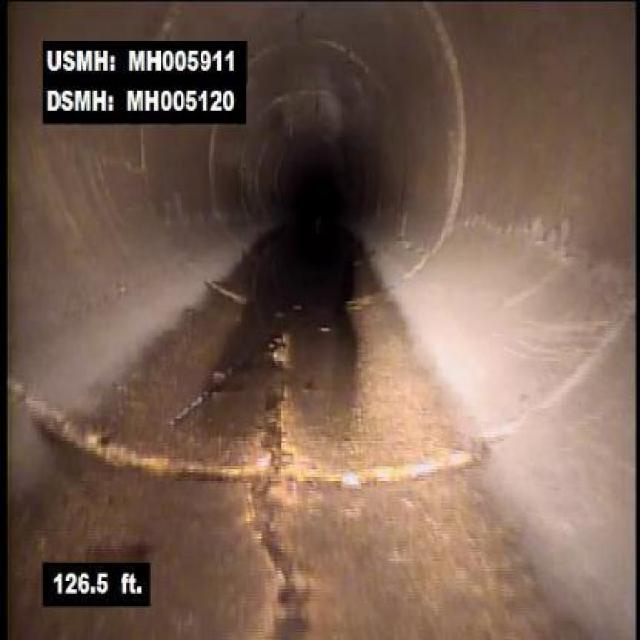Buckling: (244, 486, 324, 639), (256, 355, 298, 471)
Crack: (458, 192, 617, 308)
